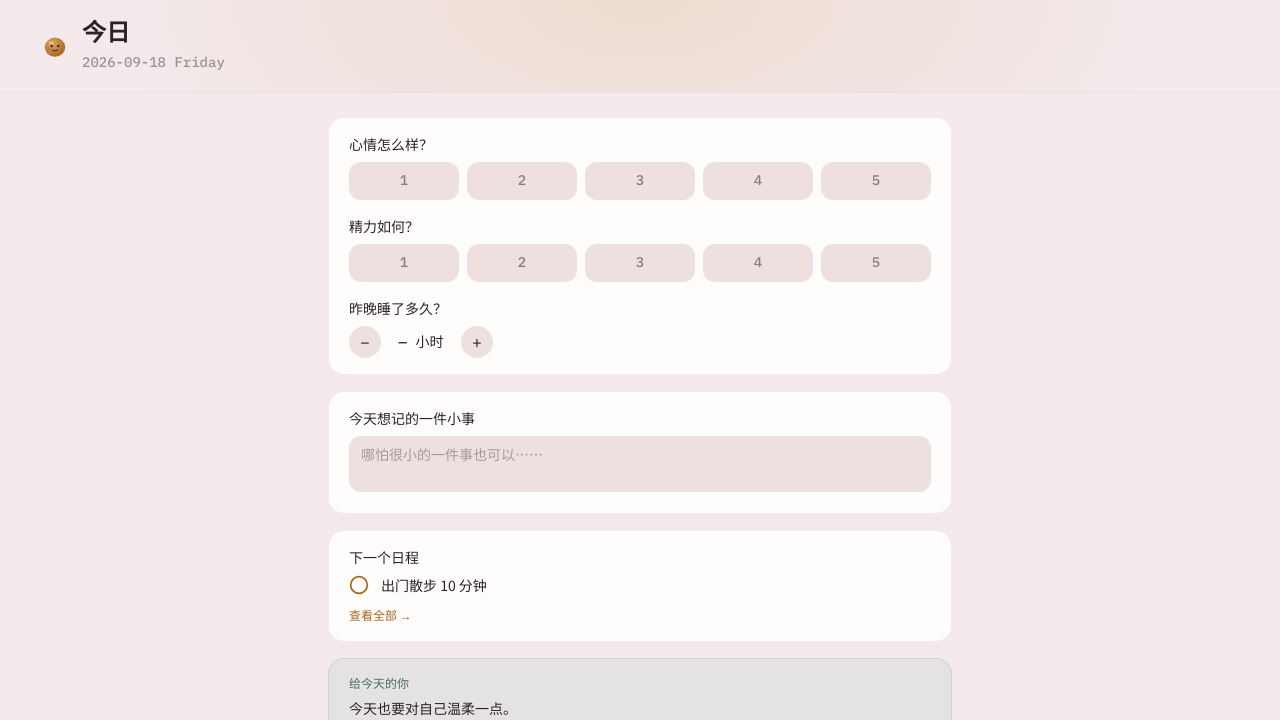
Test: Today › marks the next schedule item done and shows the empty state
Expected: the text "出门散步 10 分钟" is shown, top-left (381, 575), bottom-right (487, 595)
Click the button named "标记完成：出门散步 10 分钟" at [359, 585], box top-left (349, 575), bottom-right (369, 595)
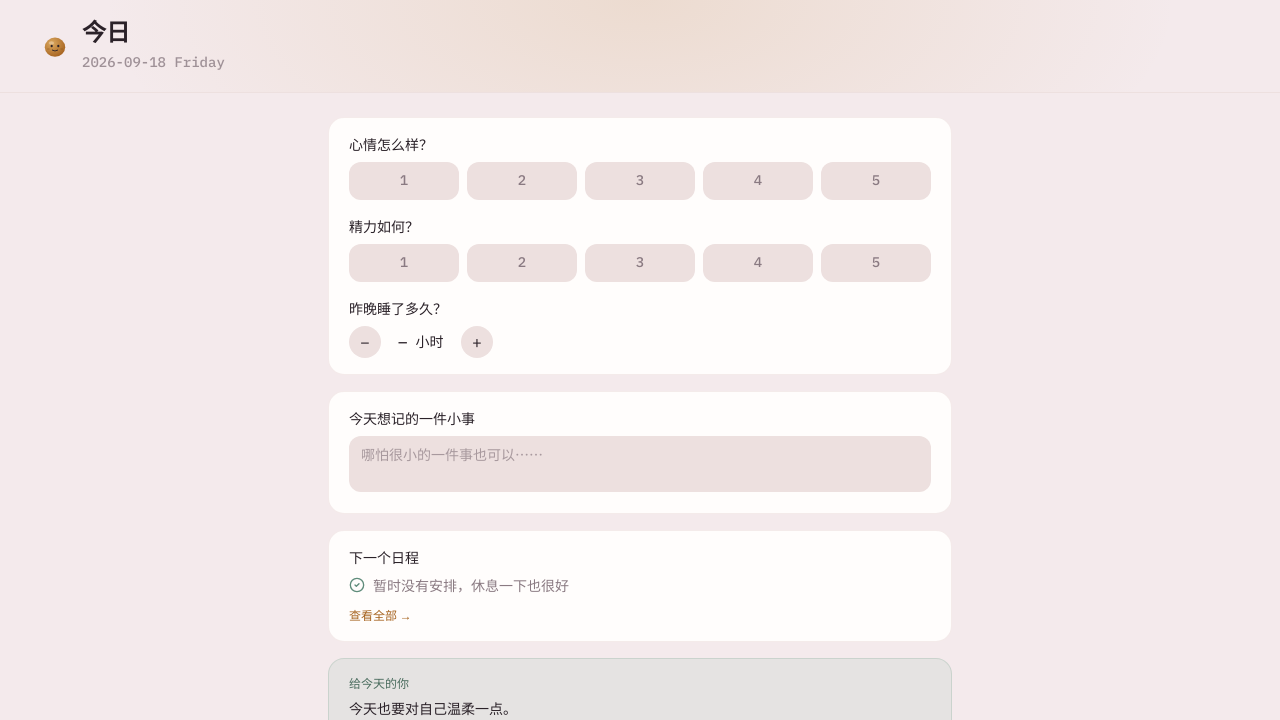
Expected: the text "暂时没有安排，休息一下也很好" is shown, top-left (349, 575), bottom-right (569, 595)
